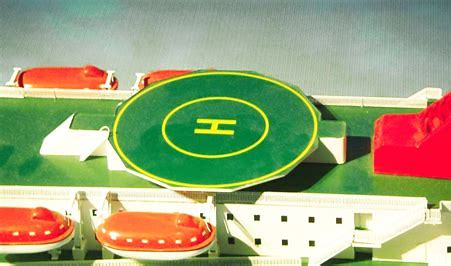H: (194, 118, 236, 136)
